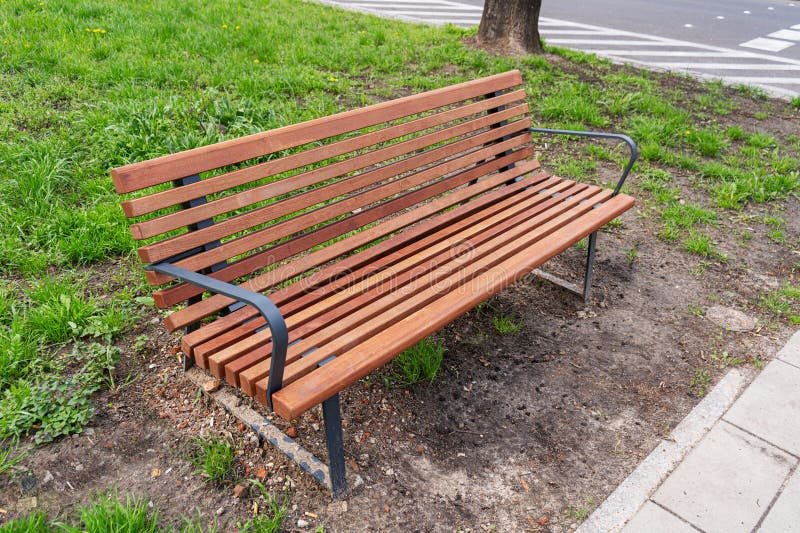Chair: (99, 66, 640, 489)
